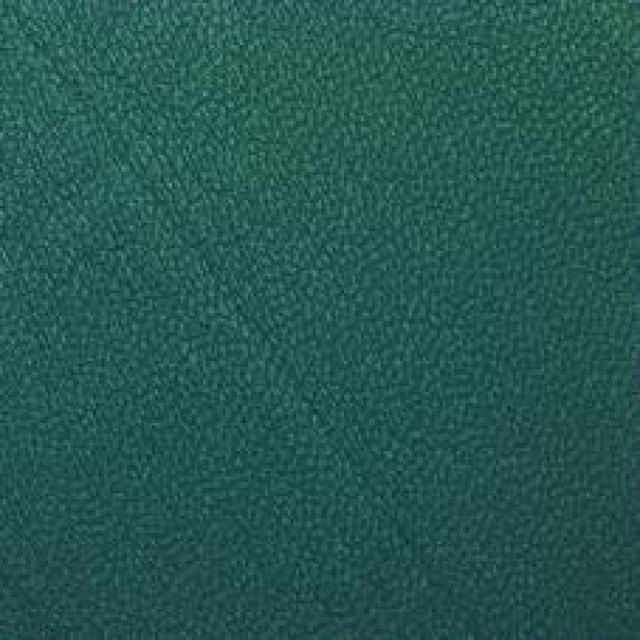Growth Marks: (206, 267, 364, 470), (41, 39, 196, 244)
